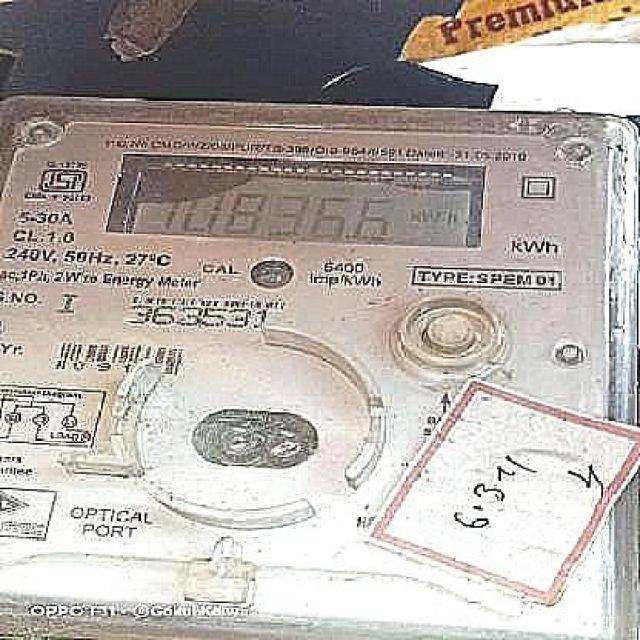display: (104, 151, 488, 251)
frame: (158, 184, 401, 246), (124, 303, 274, 338), (320, 256, 368, 276), (15, 209, 58, 226), (4, 244, 38, 262), (45, 228, 79, 244), (62, 247, 87, 264), (535, 271, 558, 289), (123, 251, 147, 267)
gauge: (0, 94, 640, 640)
